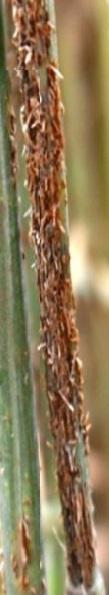Sugarcane: (15, 73, 84, 548)
